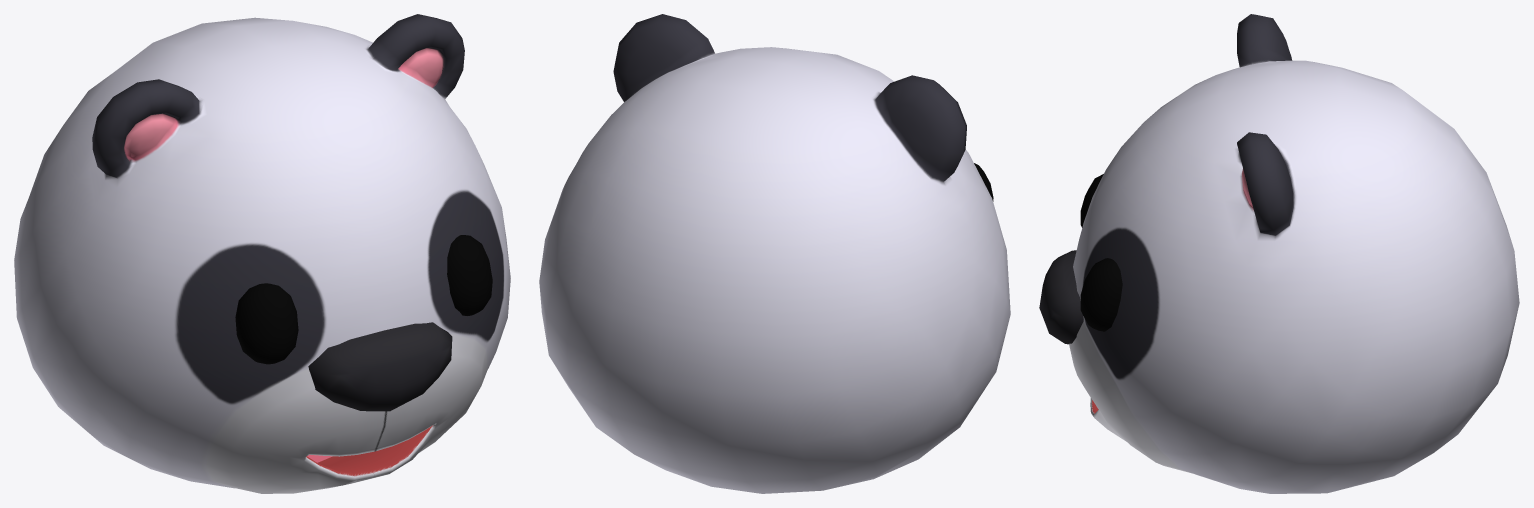
File: panda.glb
3 renders of one model, left to right at view 1: azimuth 30°, elevation 25°; view 2: azimuth 150°, elevation 25°; view 3: azimuth 270°, elevation 25°, orthographic. The views are drawn at different scales.
Parts seen in each view (by area): view 1: PandaHead, PandaHead_PandaHead_02_0.001; view 2: PandaHead; view 3: PandaHead, PandaHead_PandaHead_02_0.001.
Boxes of the visible parts, box(x1,y1,x2,y2) form: PandaHead: box(14, 14, 510, 493); PandaHead_PandaHead_02_0.001: box(447, 235, 492, 315); PandaHead: box(539, 14, 1010, 493); PandaHead: box(1039, 14, 1519, 493); PandaHead_PandaHead_02_0.001: box(1080, 258, 1122, 331).
Bounding box in the file's own units: 42.37 × 39.43 × 44.42.
4 materials, 4 textured.
